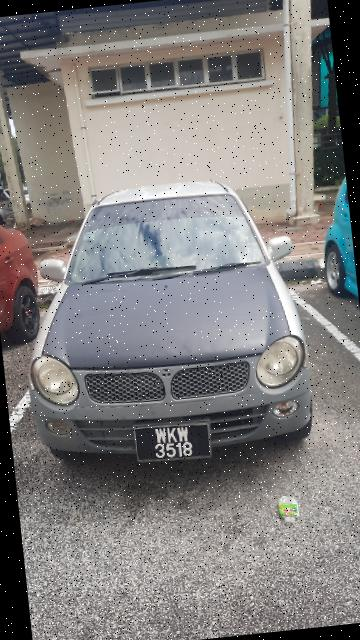License_Plate: (128, 416, 220, 472)
car: (7, 156, 331, 490)
